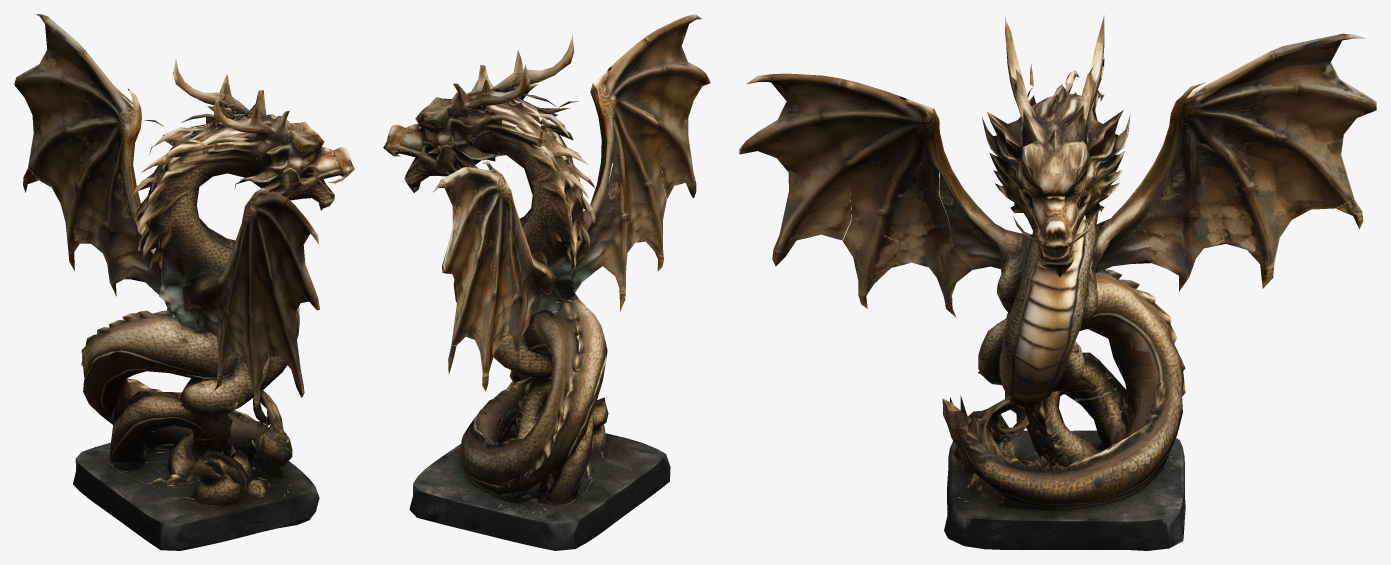
The picture shows the model from 3 angles, left to right: view 1: azimuth 30°, elevation 25°; view 2: azimuth 150°, elevation 25°; view 3: azimuth 270°, elevation 25°; orthographic projection. The views are drawn at different scales.
Visible parts, largest first — view 1: model; view 2: model; view 3: model.
Boxes of the visible parts, x1,y1,x2,y2 form: model: (14, 14, 354, 550); model: (383, 14, 710, 550); model: (739, 15, 1376, 550).
Bounding box in the file's own units: 0.9182 × 1.62 × 1.9.
Materials: 1 (1 with a texture image).
